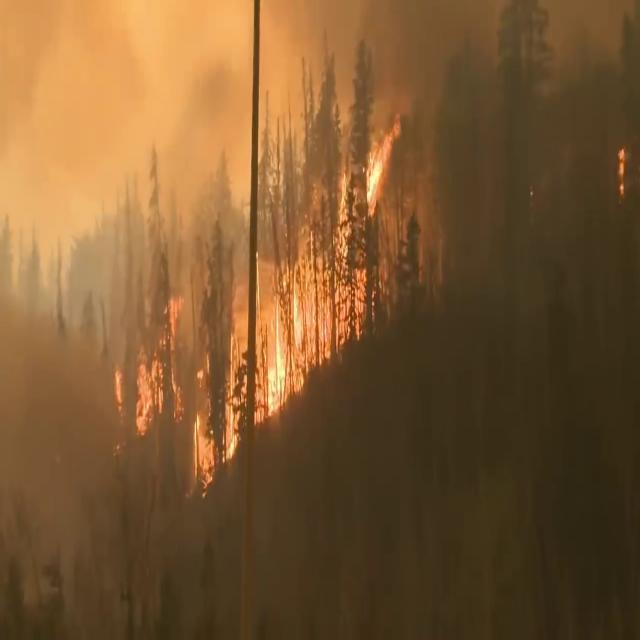Fire: (223, 74, 410, 444), (123, 292, 188, 436)
Smoke: (3, 0, 284, 620), (376, 10, 640, 522)
